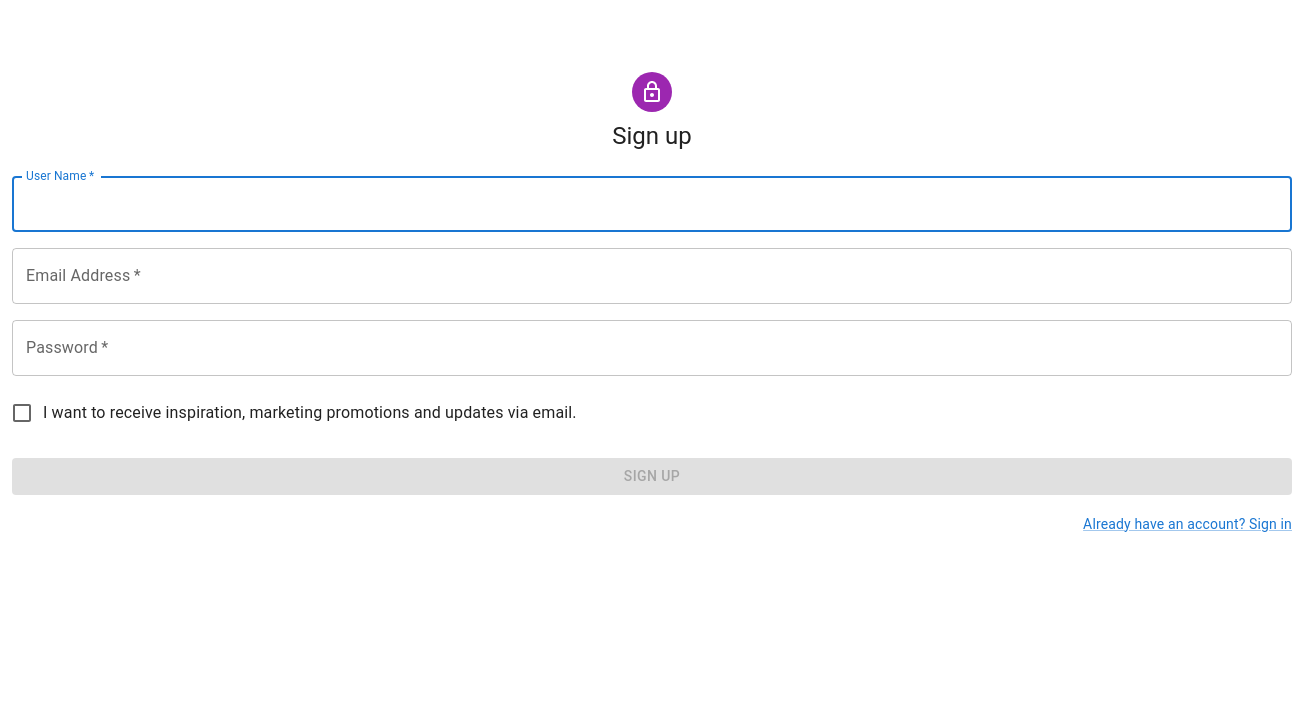
Scenario: SignUp Component › Validation › should display error message on sign-up failure
Step 1. Type "salahqerem" into the field labelled "User Name *" → (652, 204), box [12,176,1292,232]
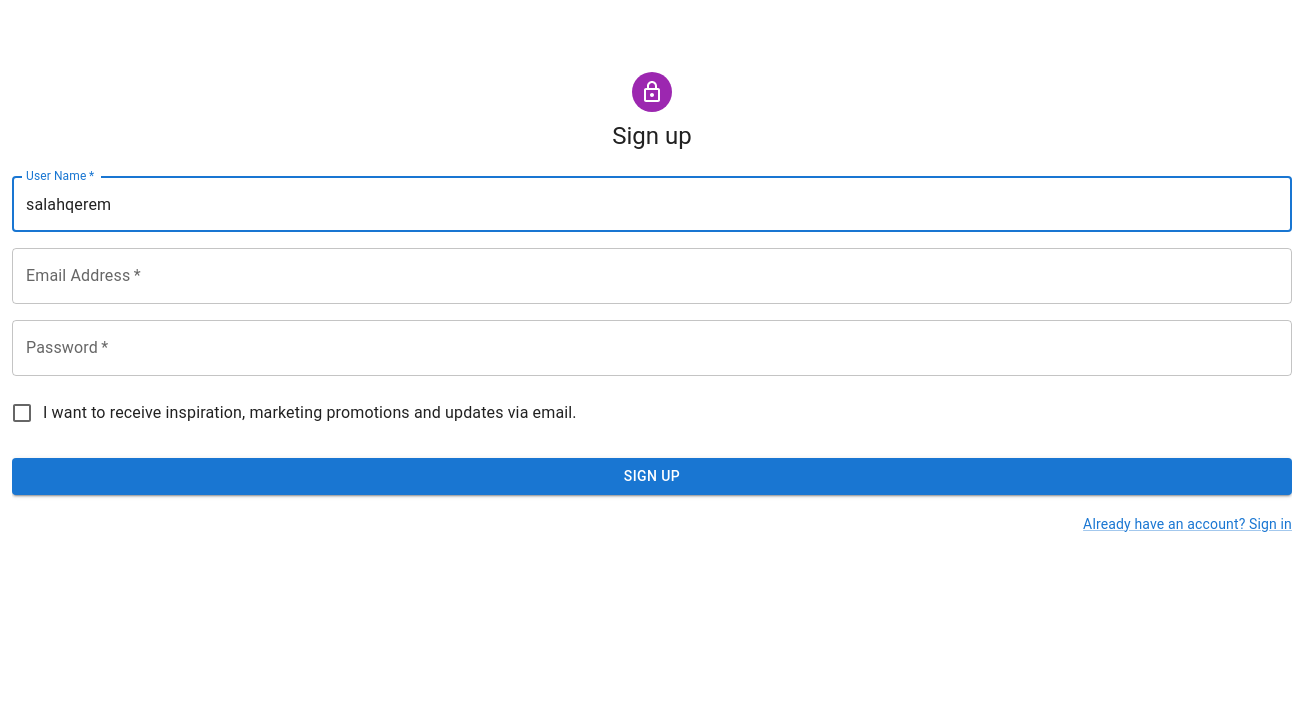
Step 2. Type "salahqerem@gmail.com" into the field labelled "Email Address *" → (652, 276), box [12,248,1292,304]
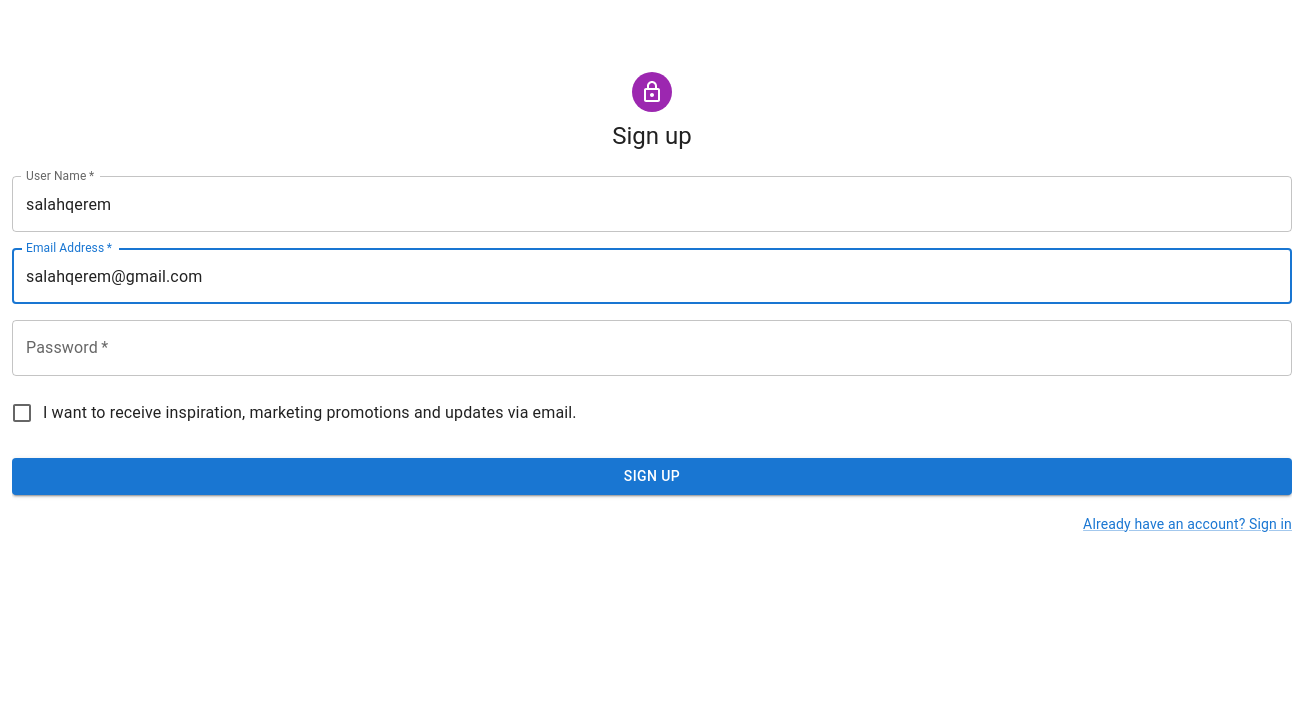
Step 3. Type "12345678" into the password field labelled "Password *" → (652, 348), box [12,320,1292,376]
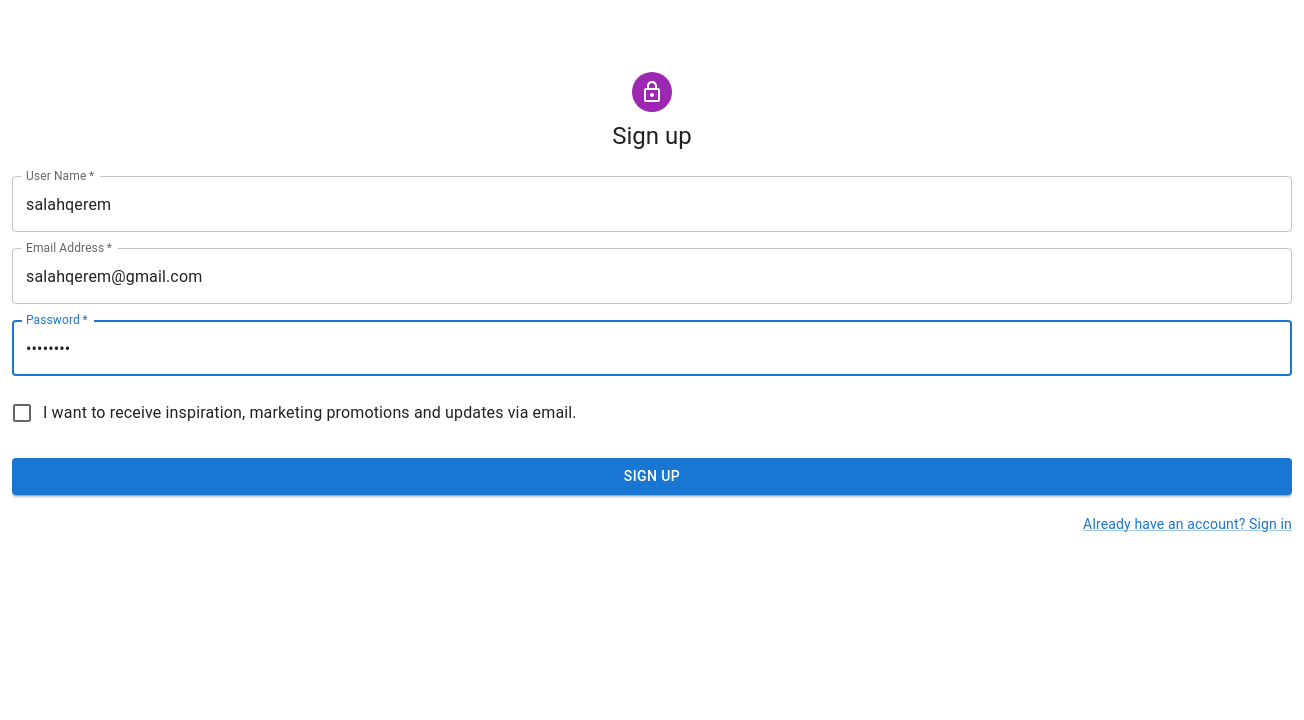
Step 4. Click the button "Sign Up" → (652, 476), box [12,458,1292,494]
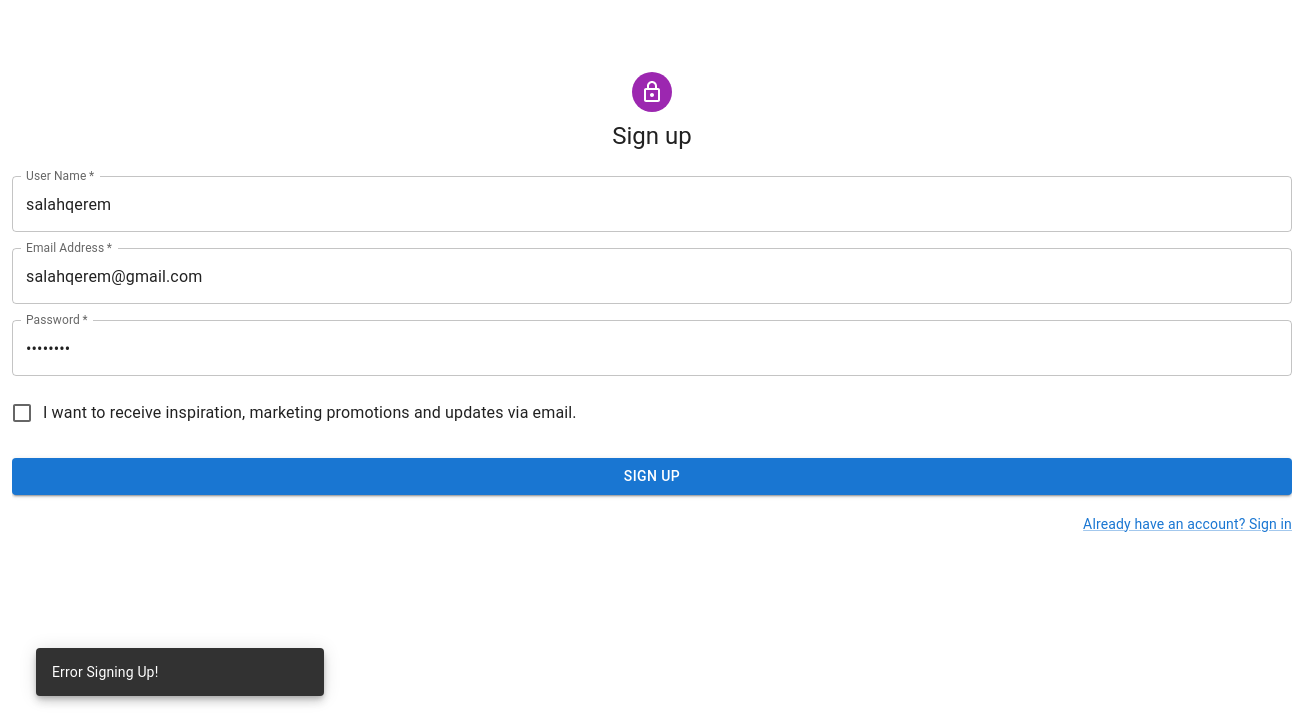
Result: the text "Error Signing Up!" is shown at [52,664,158,680]
